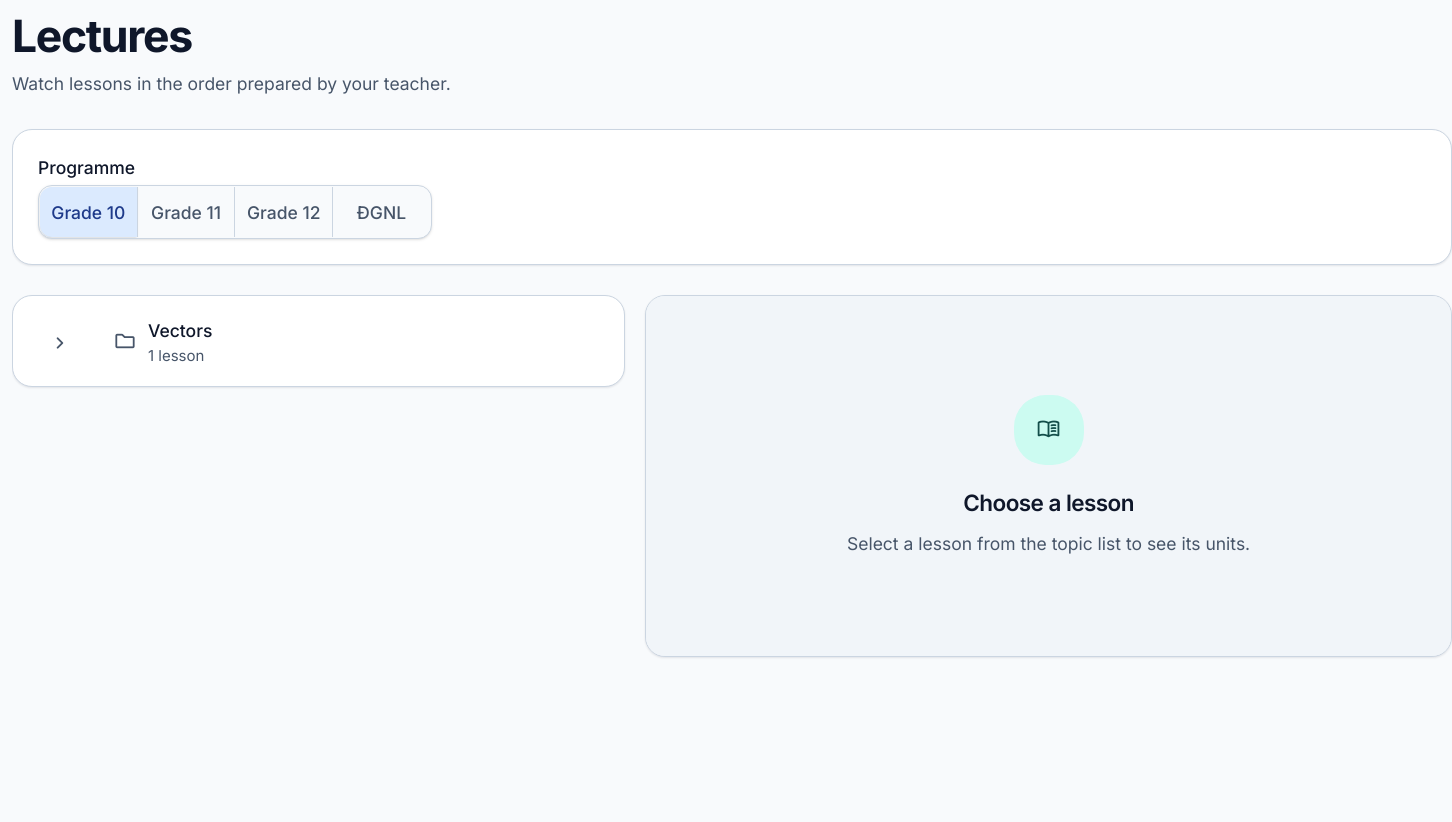
Test: StudentLecturesPage curriculum browser › lets an anonymous guest browse public curriculum on public player URLs
This screenshot has width=1452, height=822.
Expected: the button with aria-label "Vectors, 1 lesson" is shown, [98,306,609,376]
Click the button named "Expand Vectors" at (58, 341), box [28,311,88,371]
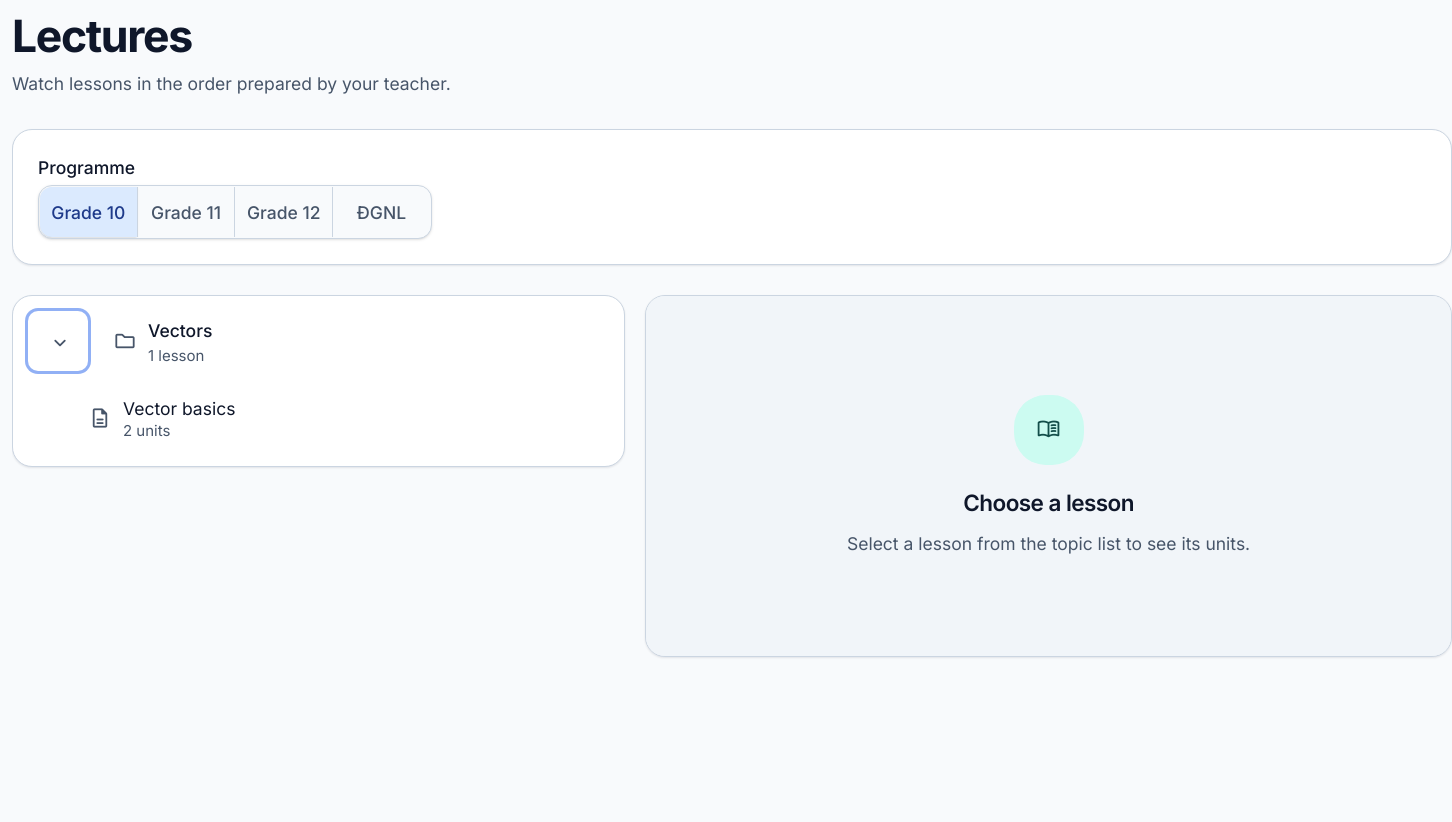
Expected: the button with aria-label "Vector basics, 2 units" is shown, [73,386,604,451]
